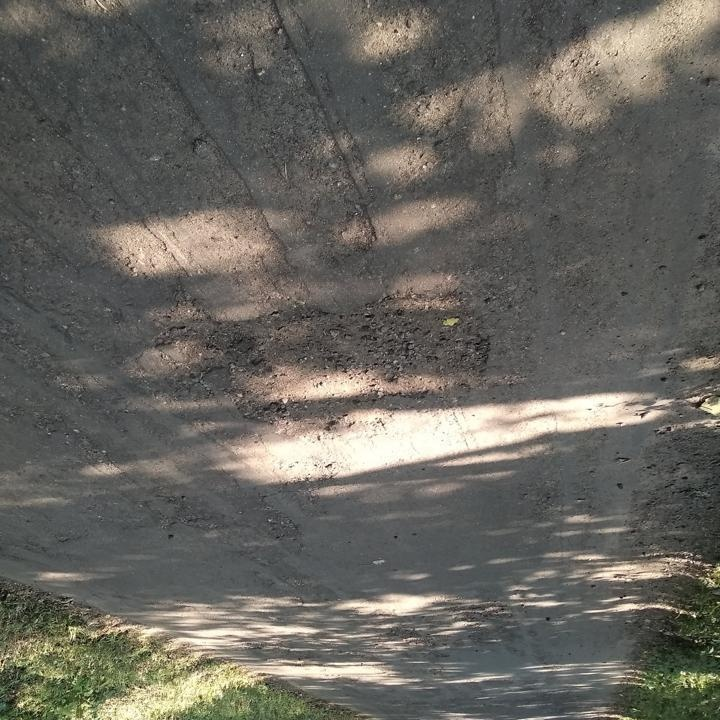pothole: (213, 298, 503, 441)
